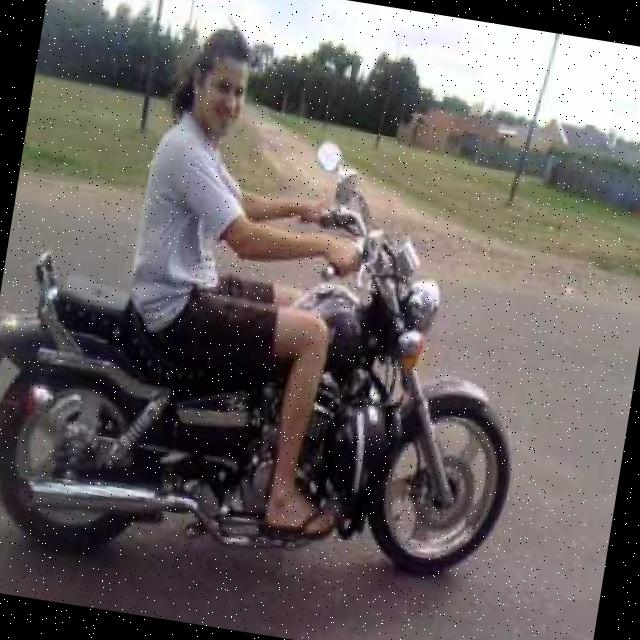No helmet: (162, 9, 266, 150)
